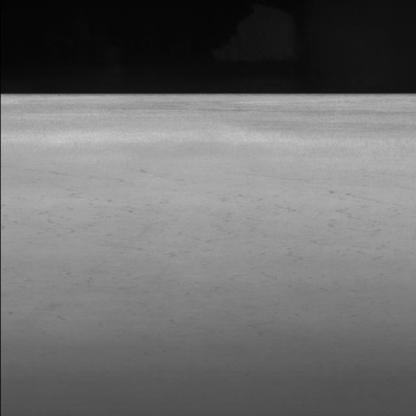silk_spot: (59, 175, 378, 276)
